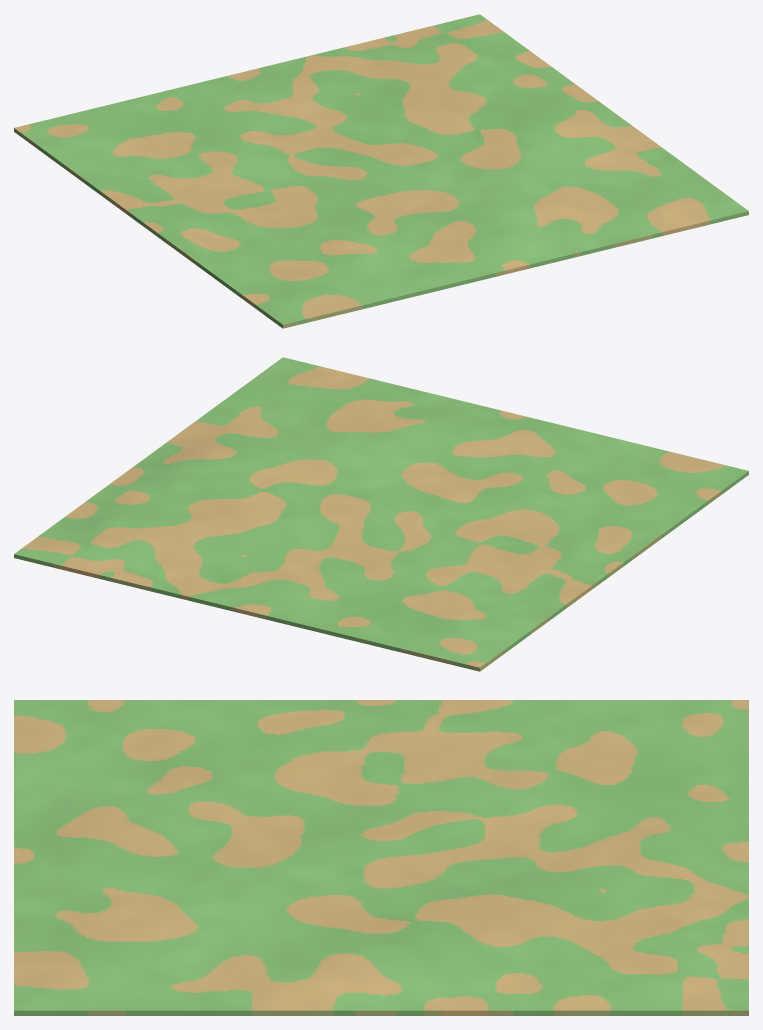
The model's file is Grass_Flat_09.obj.
3 views of the same model, one above another, from view 1: azimuth 30°, elevation 25°; view 2: azimuth 150°, elevation 25°; view 3: azimuth 270°, elevation 25° (orthographic). The views are drawn at different scales.
Size of the model in its own units: 10 by 0.2423 by 10.
1 material, 1 textured.
